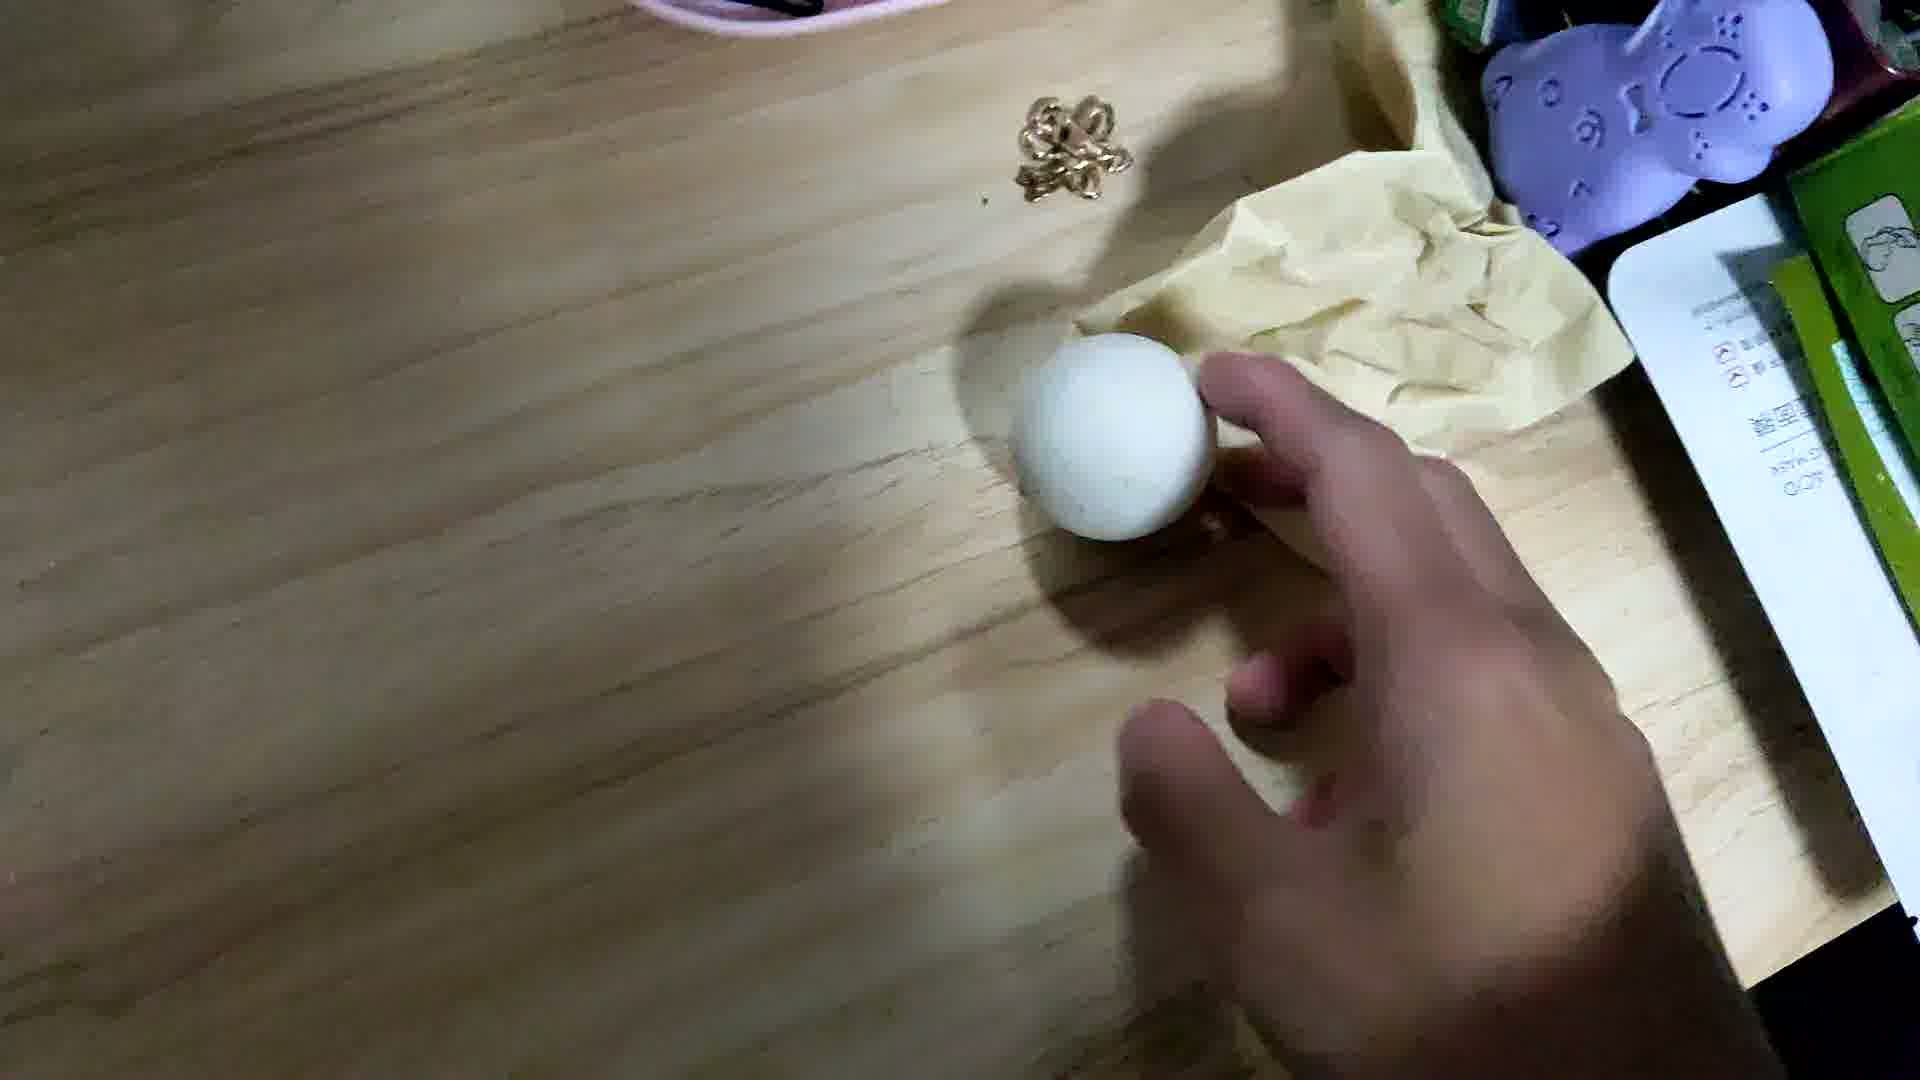Ball: (1021, 328, 1220, 549)
